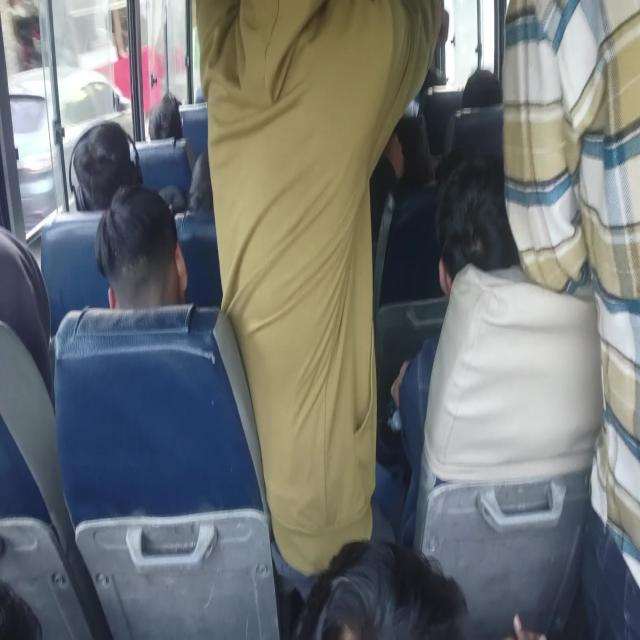person: (192, 1, 446, 600), (388, 145, 522, 544), (292, 538, 469, 638), (434, 146, 521, 298), (95, 182, 188, 310), (68, 119, 142, 212), (147, 91, 196, 175), (147, 91, 183, 140), (187, 151, 213, 214)
